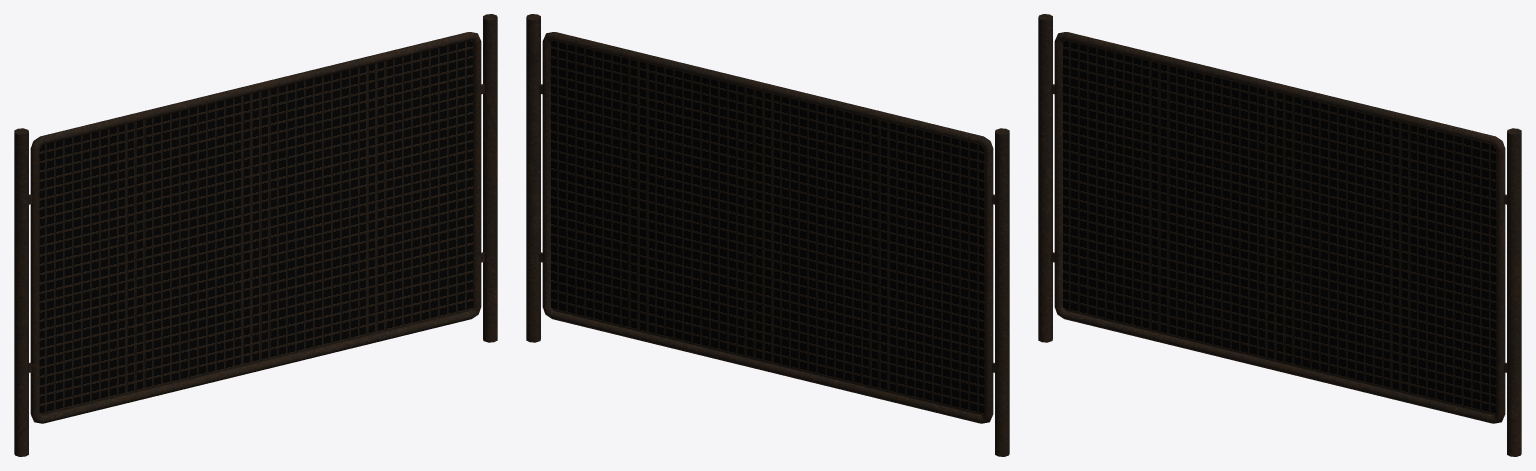
Rendered from fence_e_1.glb.
3 views of the same model, side by side, from view 1: azimuth 30°, elevation 25°; view 2: azimuth 150°, elevation 25°; view 3: azimuth 330°, elevation 25° (orthographic).
Parts seen in each view (by area): view 1: fence_e_1; view 2: fence_e_1; view 3: fence_e_1.
Boxes of the visible parts, x1,y1,x2,y2 form: fence_e_1: (14, 14, 497, 456); fence_e_1: (526, 14, 1009, 456); fence_e_1: (1038, 14, 1521, 456).
Size of the model in its own units: 3.6 by 2.3 by 0.1.
2 materials, 2 textured.
